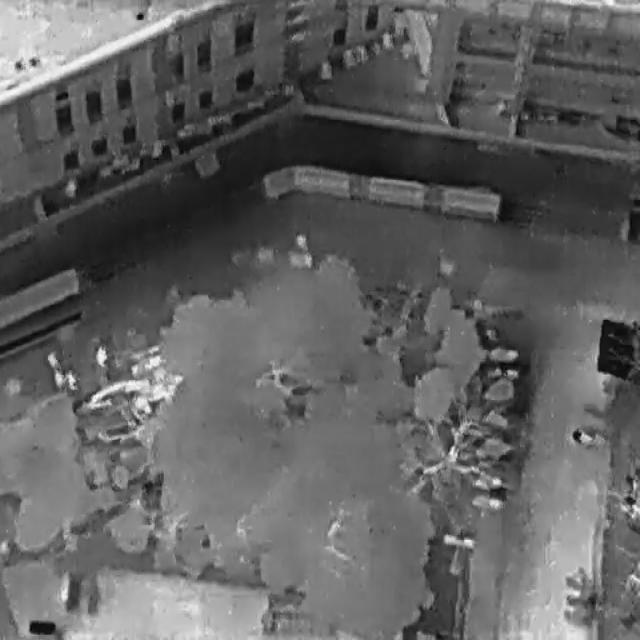Person: (44, 349, 60, 369), (94, 343, 105, 365), (52, 369, 63, 389), (66, 368, 75, 388)
